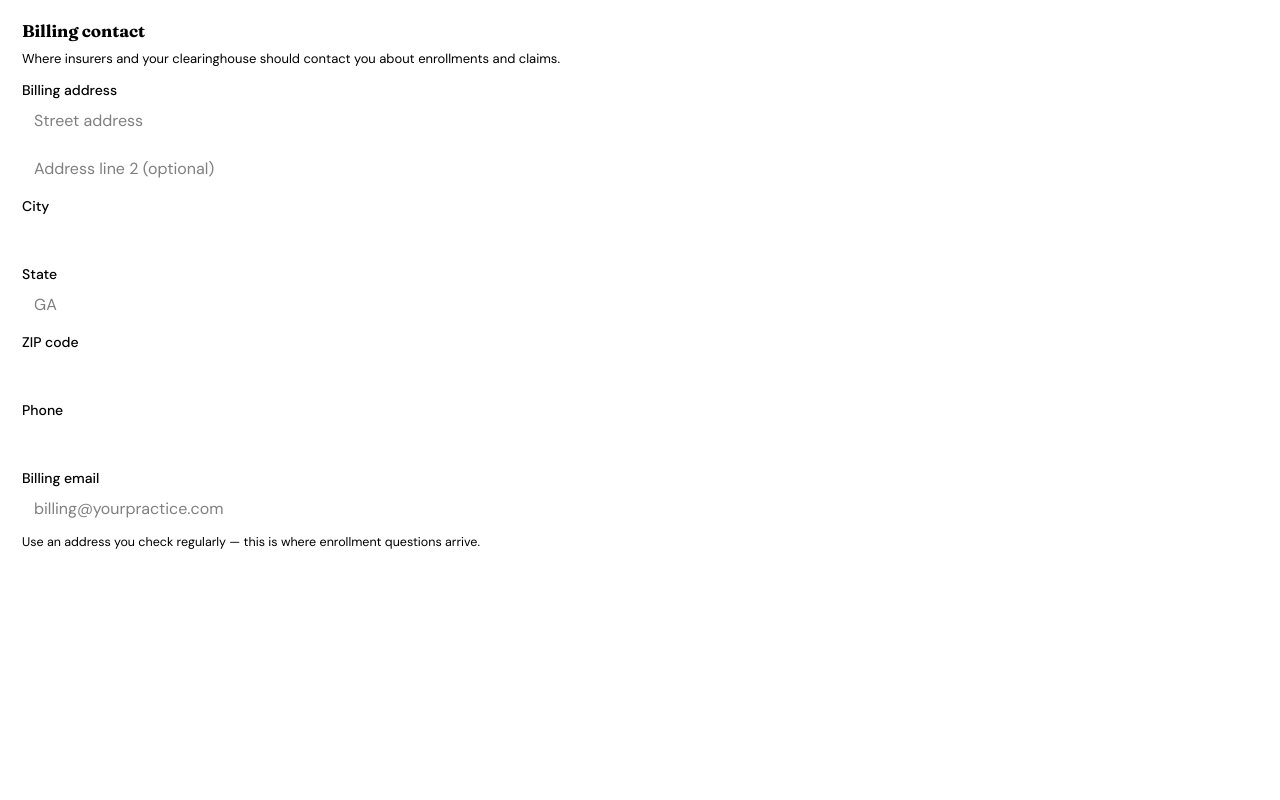
Test: BillingContactCard › refuses a state that is not two letters
Type "G" into the field labelled "State".
click(640, 305); type("G")  # box [22, 287, 1258, 323]
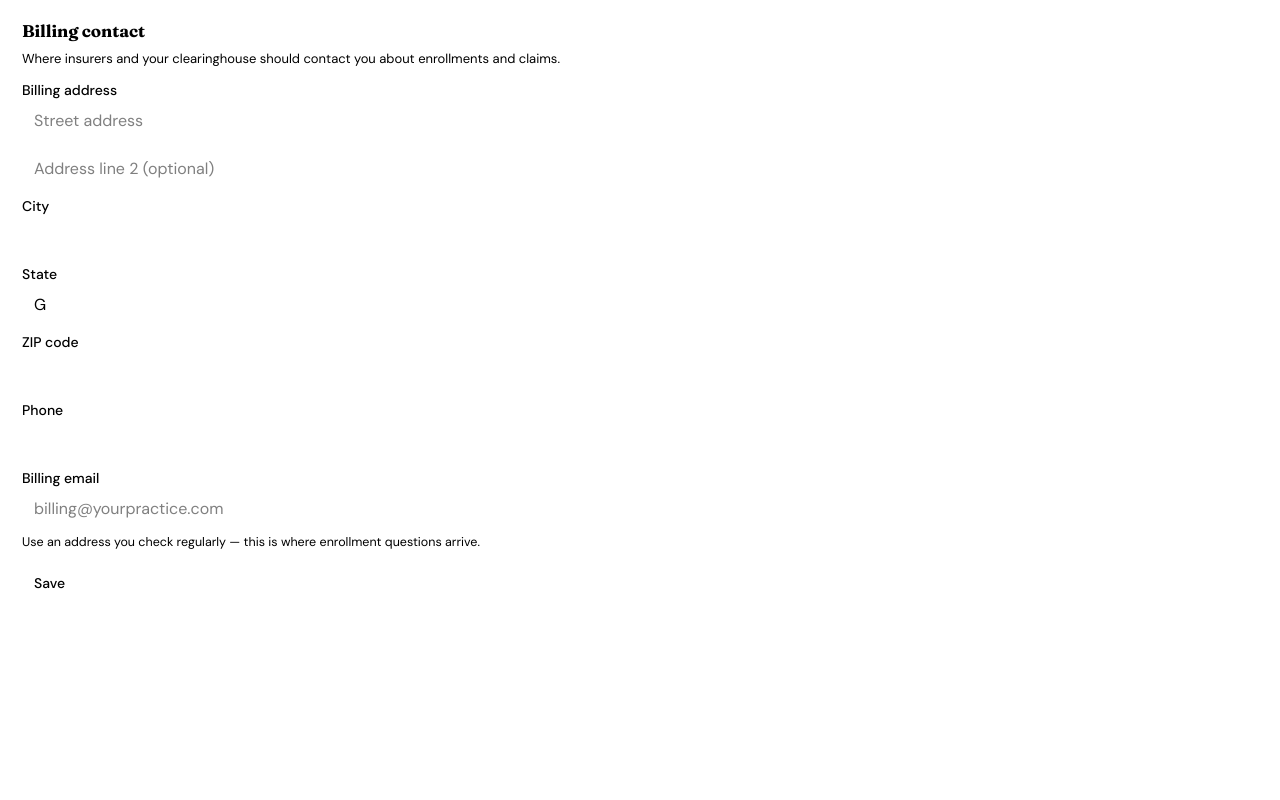
Click the button "Save".
click(50, 583)  # box [22, 567, 77, 599]
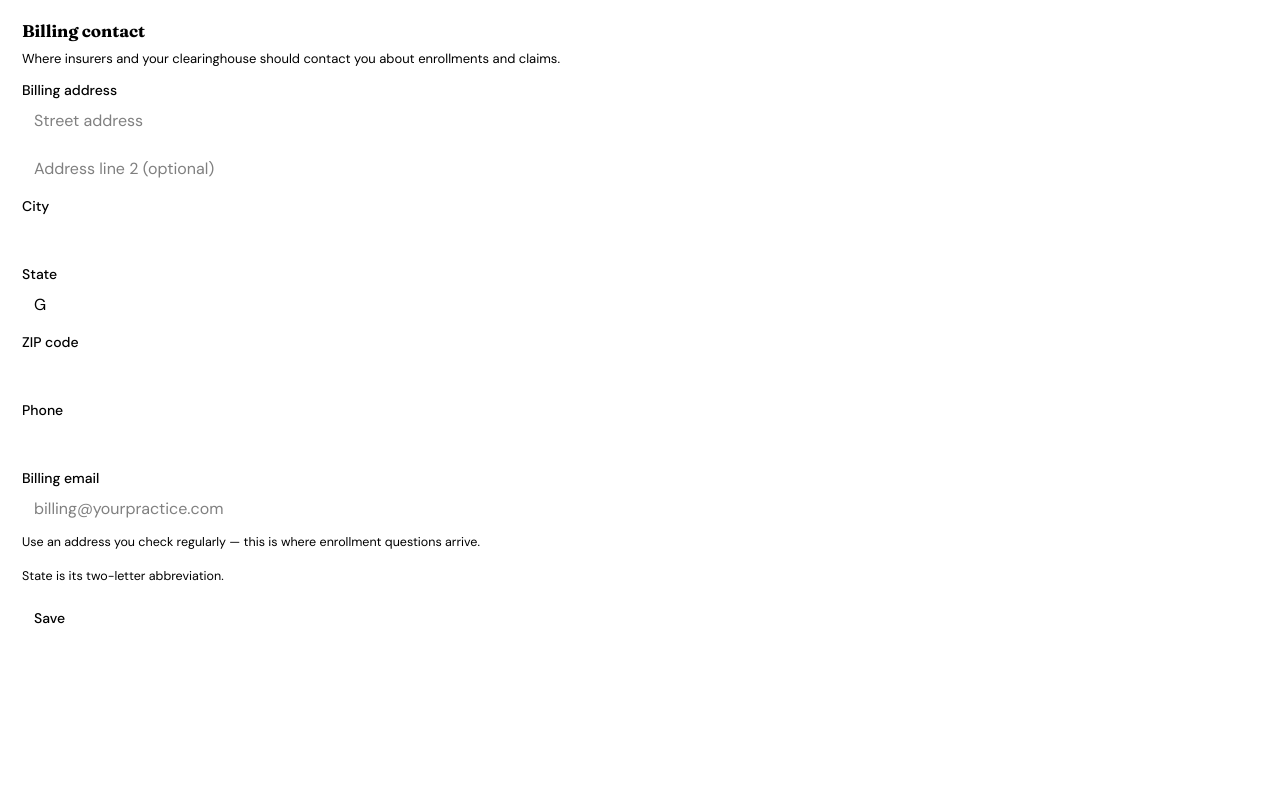
Expected: the message shows "two-letter", [22, 568, 224, 584]
